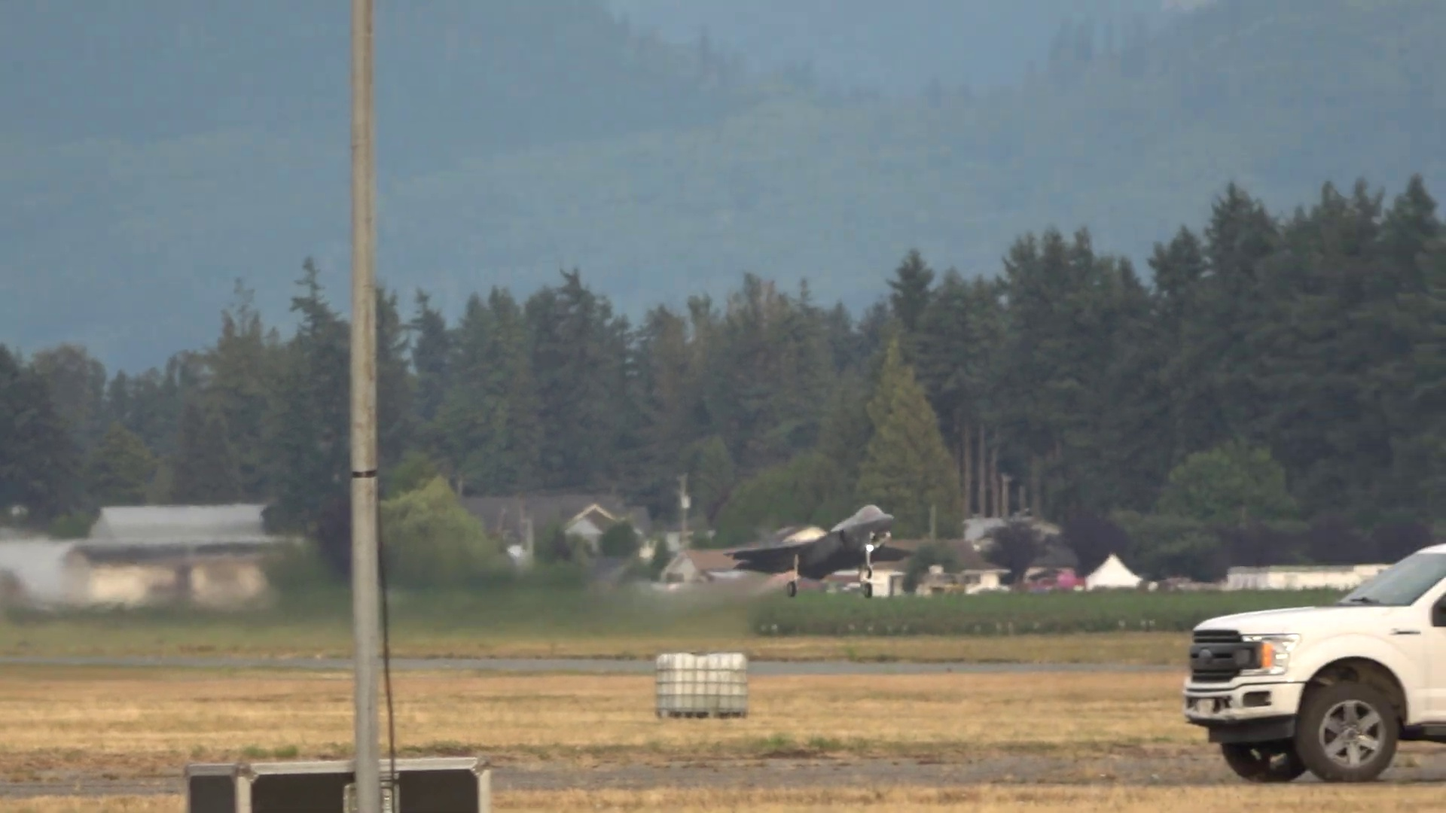F35: (723, 502, 918, 602)
